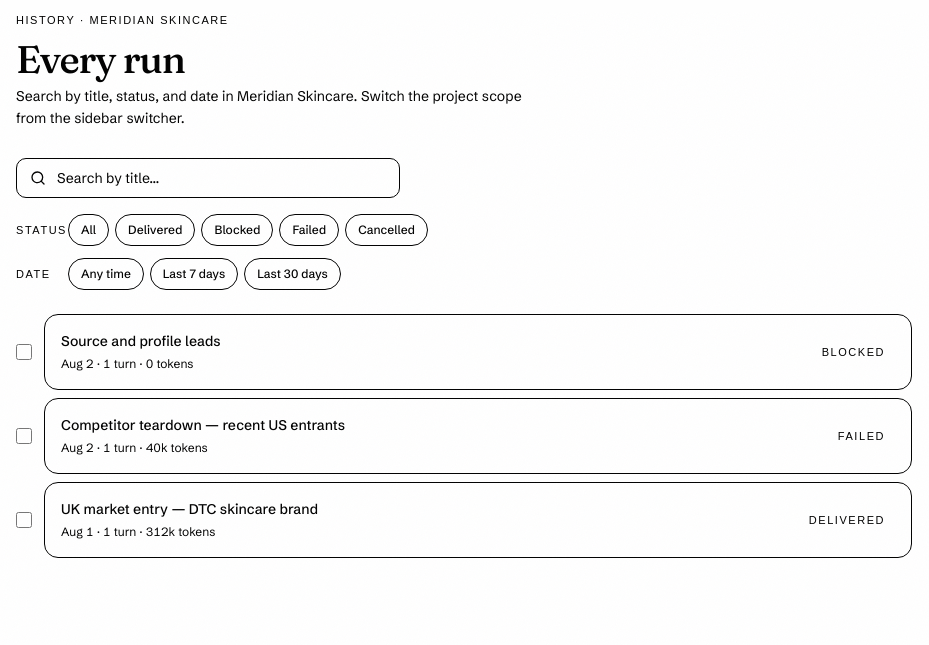
Test: HistoryPage › shows a selection toolbar only once a row is checked, and Cancel clears it
Expected: the text "selected" is not shown
Click the checkbox named "Select Source and profile leads" at (24, 352), box [16,344,32,360]
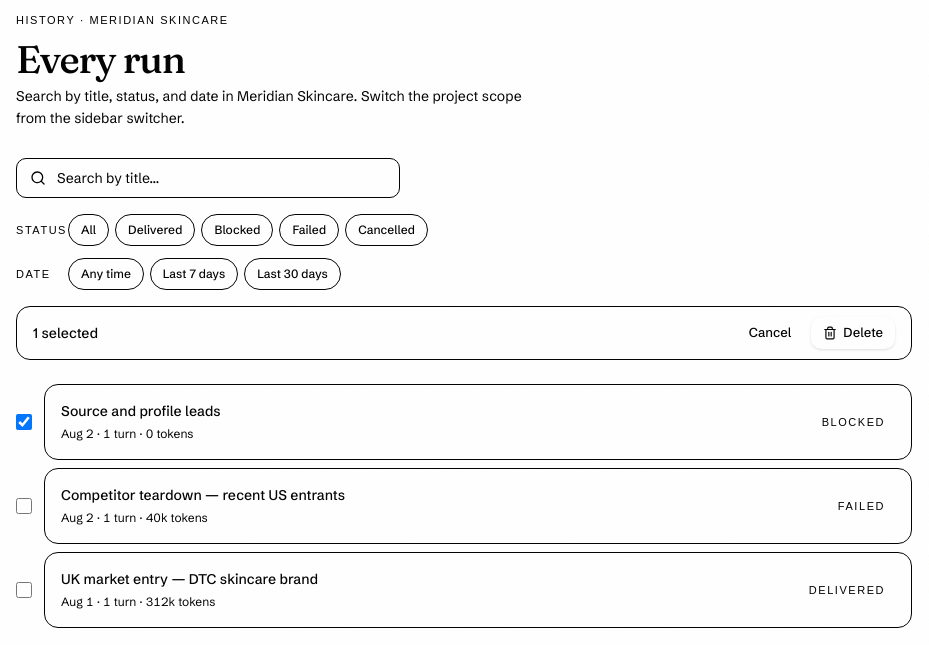
Now the text "1 selected" is shown, box [33,323,98,343]
Click the button "Cancel" at (770, 333), box [737,317,803,349]
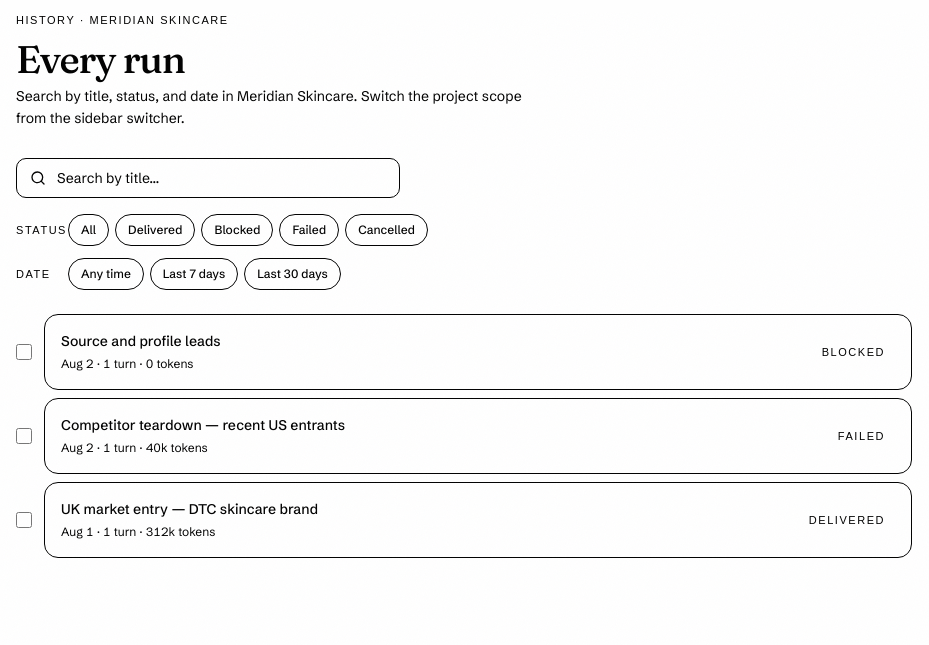
Now the text "selected" is gone
